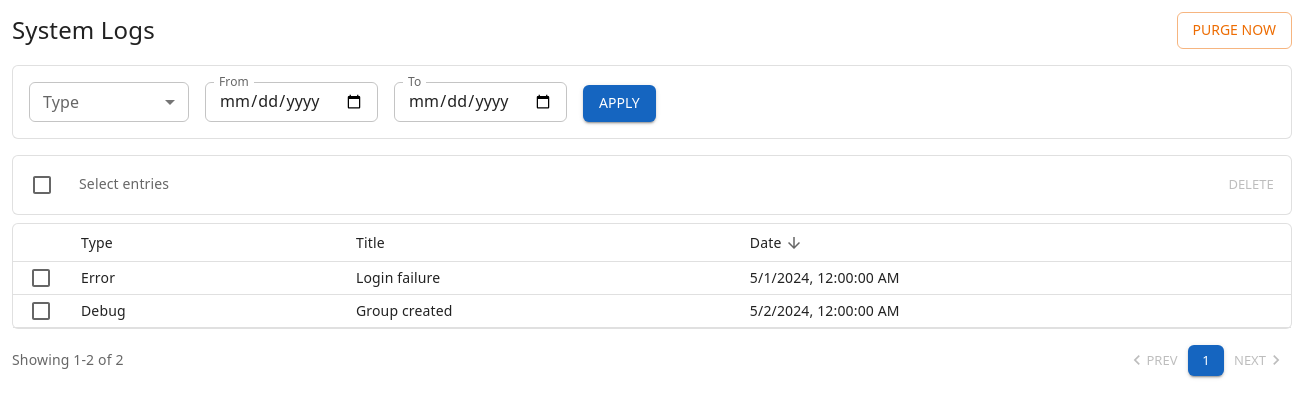
LogViewerPage (TS-M4-G3) › filter by type narrows the list on Apply (AC-2)
The width and height of the screenshot is (1304, 396).
Check: the text "Login failure" is shown, box left=340, top=261, right=734, bottom=294
Click the dropdown named "Type".
click(109, 102)  # box left=29, top=82, right=189, bottom=122
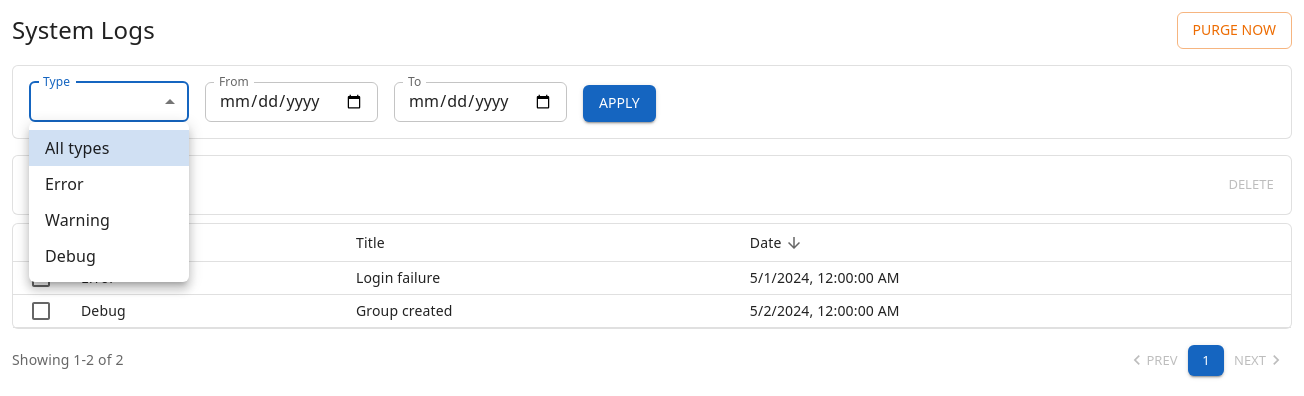
Click the option "Error".
click(64, 184)  # box left=45, top=173, right=84, bottom=195
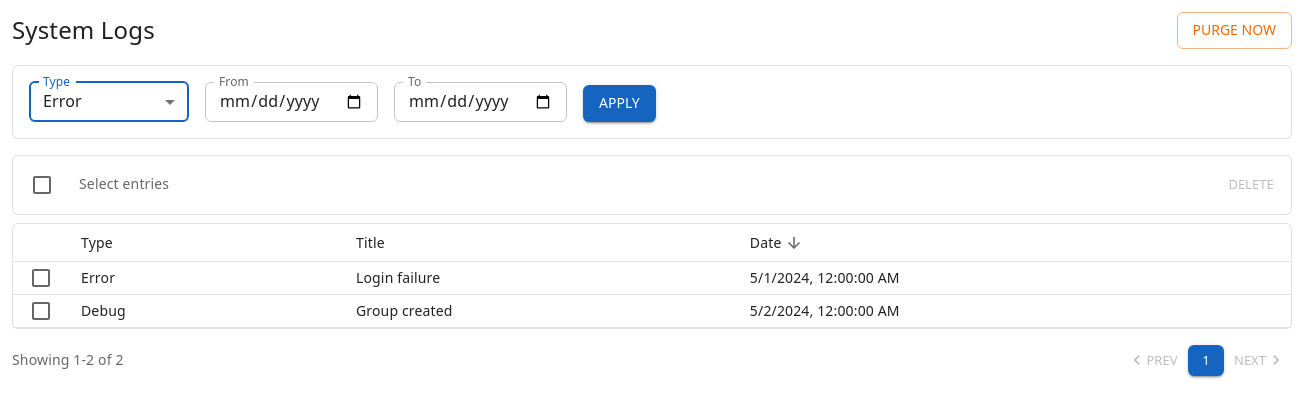
Click the button with test id "log-apply".
click(619, 103)  # box left=583, top=85, right=656, bottom=122
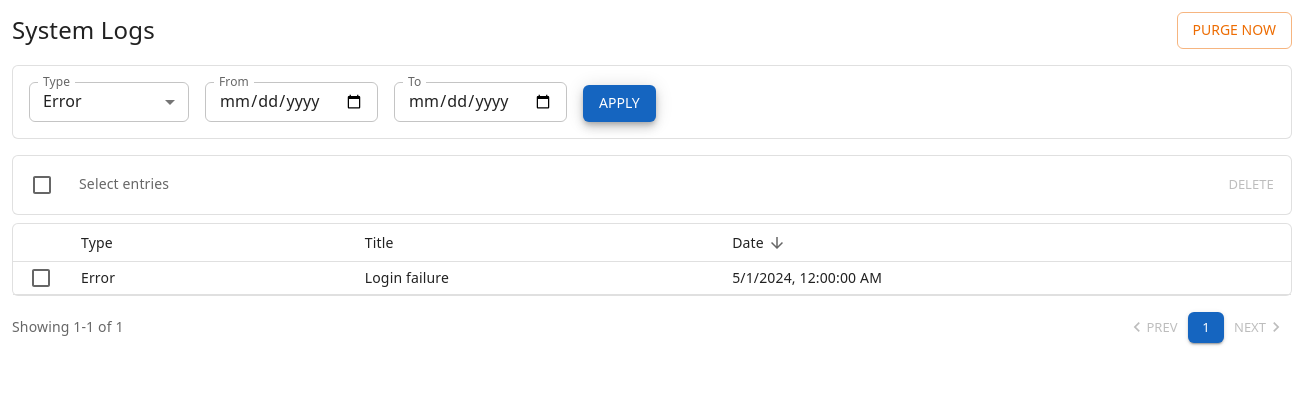
Check: the dropdown named "Type" reads "Error", box left=43, top=90, right=82, bottom=112
Check: the text "Group created" is gone
